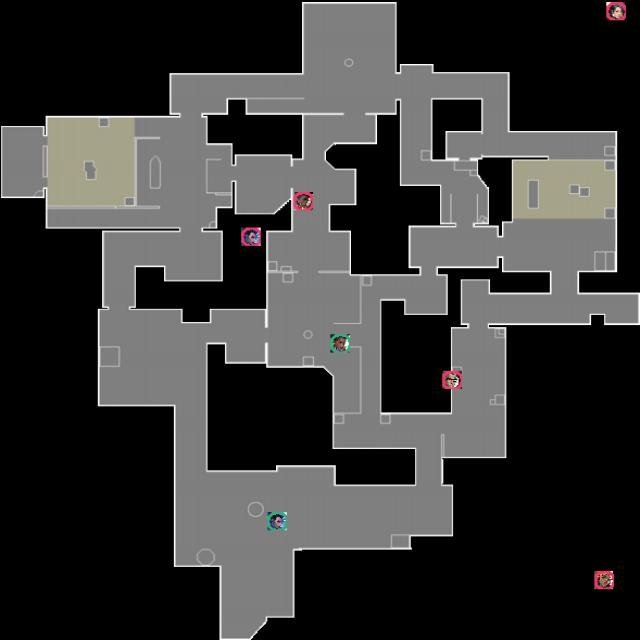atk_chamber: (442, 371, 462, 389)
atk_phoenix: (293, 192, 313, 210)
atk_raze: (594, 571, 614, 589)
atk_sage: (606, 2, 626, 20)
atk_yoru: (241, 227, 261, 246)
def_astra: (330, 334, 350, 353)
def_yoru: (267, 512, 287, 530)
